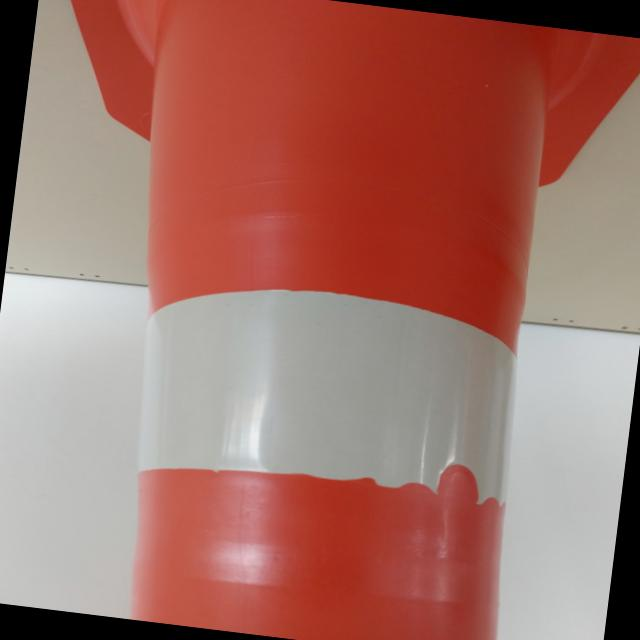cone: (91, 0, 595, 640)
